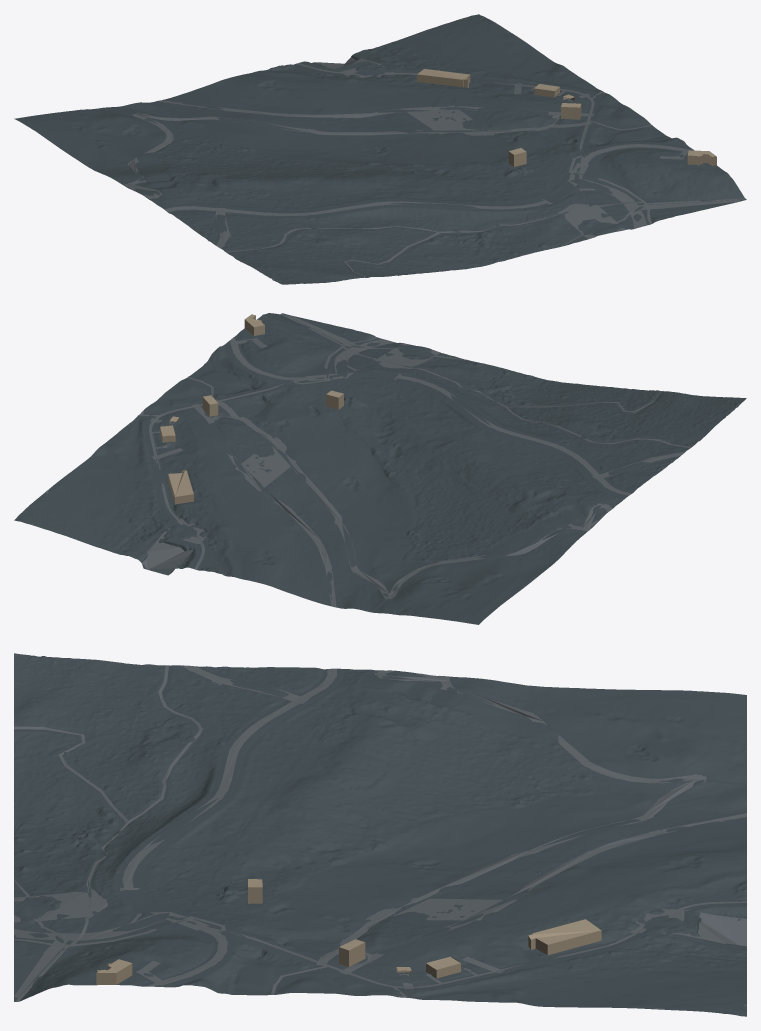
The model's file is epsg26910-1423-10893.lod0.glb.
3 views of the same model, one above another, from view 1: azimuth 30°, elevation 25°; view 2: azimuth 150°, elevation 25°; view 3: azimuth 270°, elevation 25° (orthographic). The views are drawn at different scales.
Visible parts, largest first — view 1: epsg26910-1423-10893-lod0; view 2: epsg26910-1423-10893-lod0; view 3: epsg26910-1423-10893-lod0.
Part boxes in pixels (box(x1,y1,x2,y2)): epsg26910-1423-10893-lod0: box(14, 14, 746, 284); epsg26910-1423-10893-lod0: box(14, 313, 746, 624); epsg26910-1423-10893-lod0: box(14, 653, 746, 1016).
Size of the model in its own units: 384 by 44.99 by 384.
